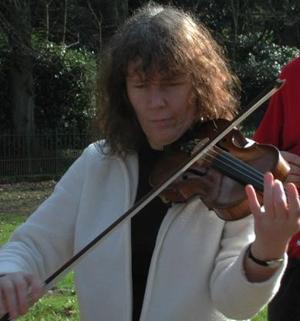person: (1, 6, 300, 321)
